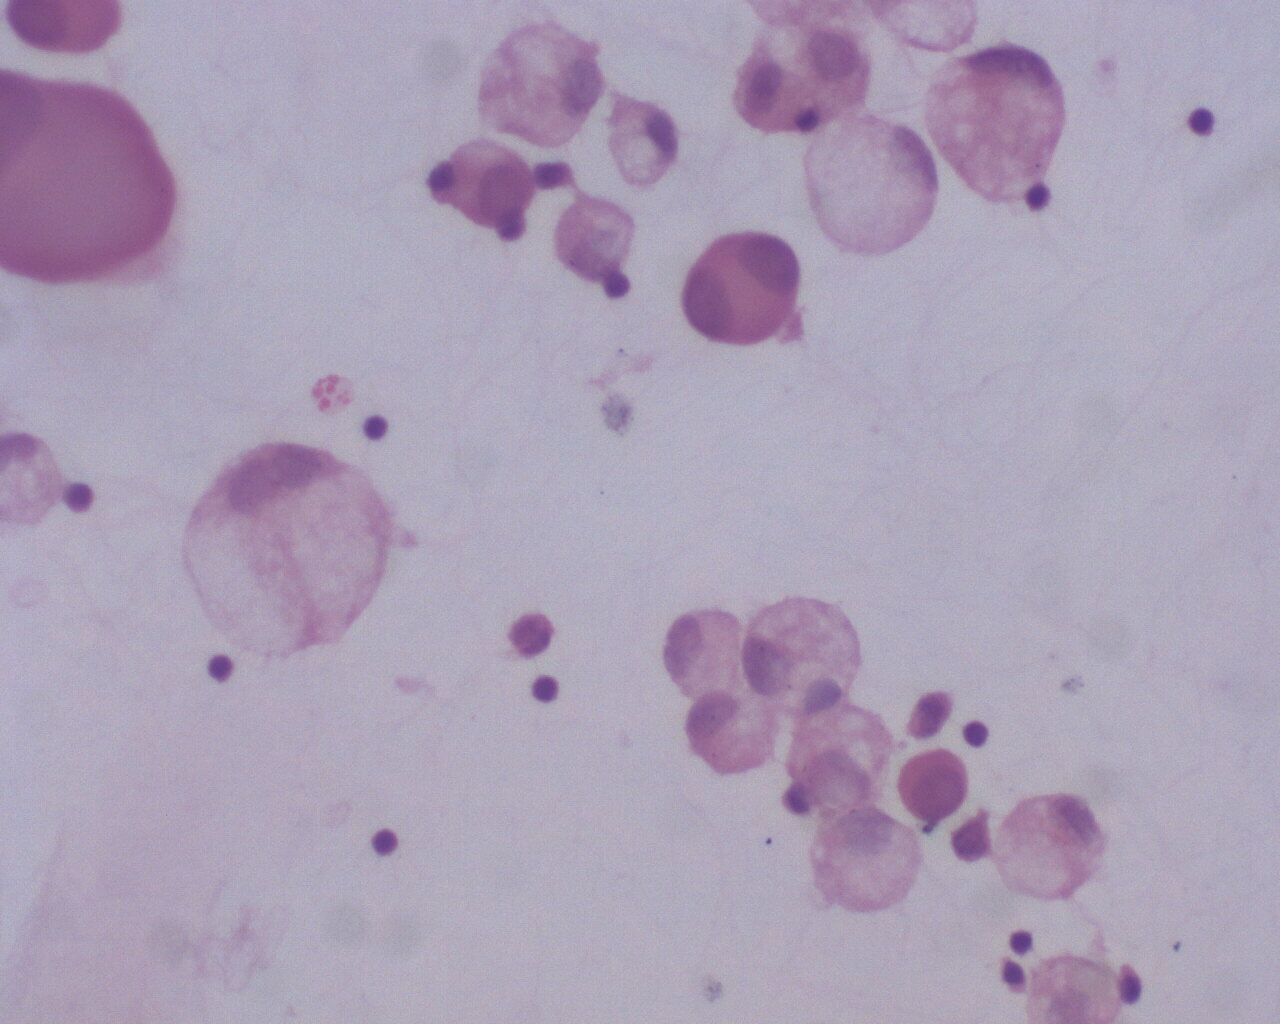ab: (668, 231, 807, 351), (994, 783, 1108, 907), (893, 747, 975, 822)
histo: (176, 440, 388, 660), (914, 44, 1070, 208), (800, 108, 940, 259), (734, 596, 875, 715), (810, 806, 926, 912), (673, 692, 779, 781)
lymph: (526, 670, 569, 712), (363, 823, 404, 859), (1182, 101, 1221, 138)
